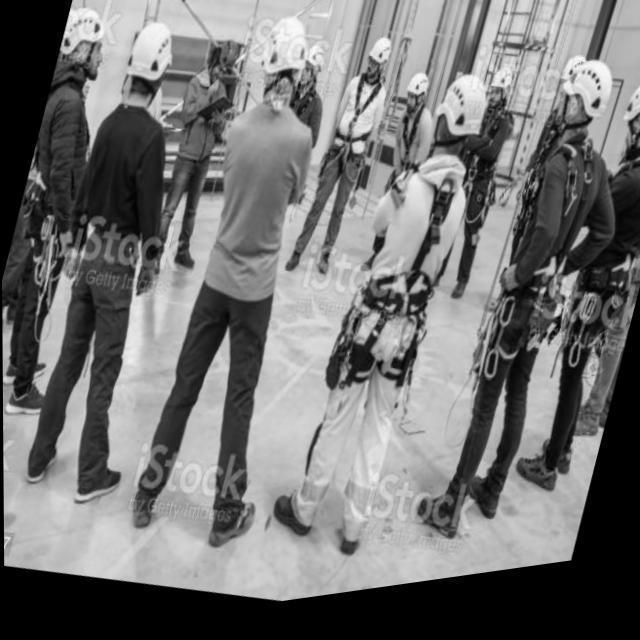safety belt: (342, 155, 454, 403), (526, 156, 580, 345), (21, 86, 61, 226), (603, 184, 636, 329), (388, 102, 438, 179), (339, 74, 374, 179)
